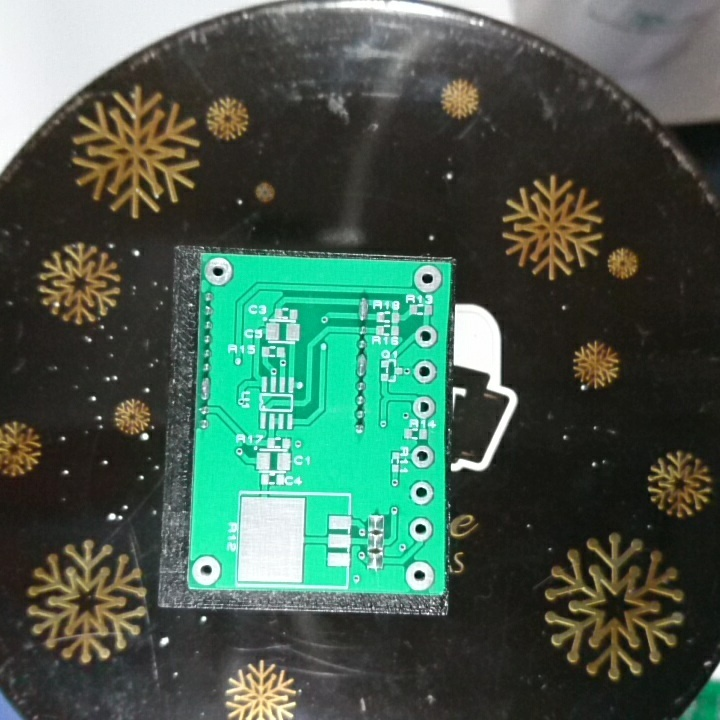F: (190, 552, 225, 588), (403, 559, 437, 593), (202, 255, 234, 289), (411, 264, 444, 295), (407, 441, 437, 472), (406, 515, 436, 545), (411, 357, 440, 386), (408, 478, 438, 506), (409, 394, 437, 421), (412, 323, 439, 350)
P: (355, 295, 372, 323), (198, 375, 213, 403), (354, 353, 368, 379)
